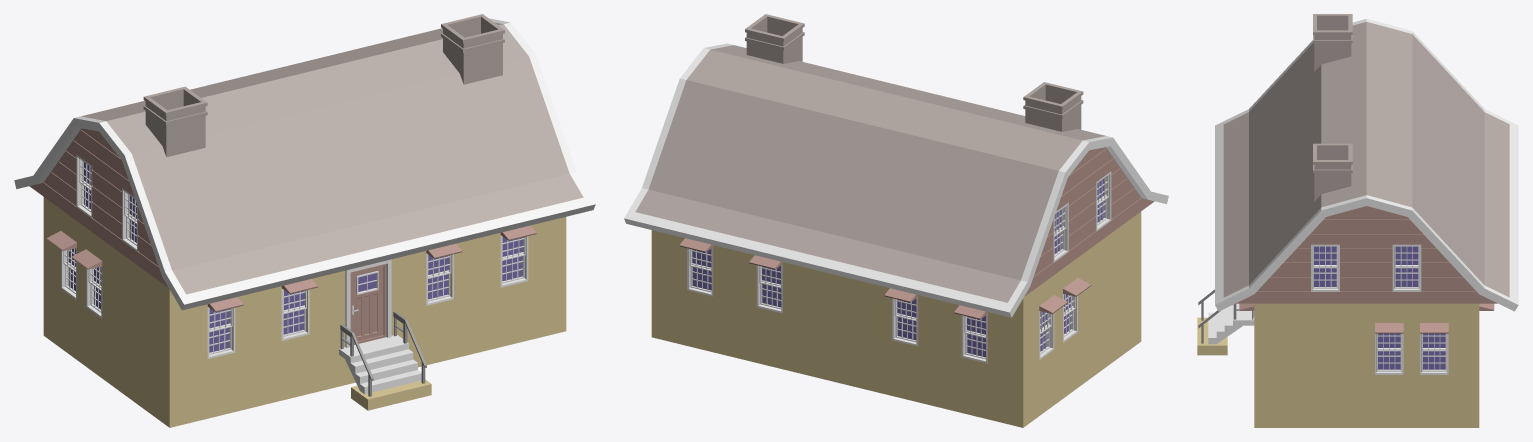
The model's file is 965_house.glb.
The picture shows the model from 3 angles, left to right: view 1: azimuth 30°, elevation 25°; view 2: azimuth 150°, elevation 25°; view 3: azimuth 270°, elevation 25°; orthographic projection. The views are drawn at different scales.
Parts seen in each view (by area): view 1: Body; view 2: Body; view 3: Body.
Boxes of the visible parts, <box> form: Body: <box>14,14,595,427</box>; Body: <box>624,14,1168,427</box>; Body: <box>1197,14,1518,427</box>.
Bounding box in the file's own units: 15.99 × 10.2 × 11.7.
